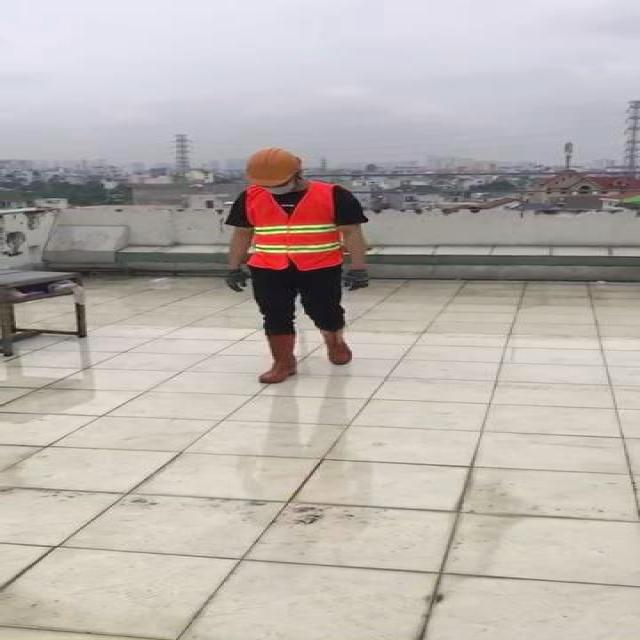boots: (256, 334, 299, 384), (320, 323, 352, 367)
hand_glove: (342, 268, 372, 292), (224, 269, 249, 292)
person: (243, 144, 305, 188)
vest: (246, 182, 342, 271)
